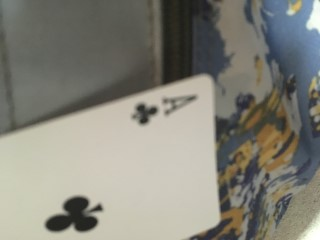AceOfClubs: (1, 72, 222, 240)
